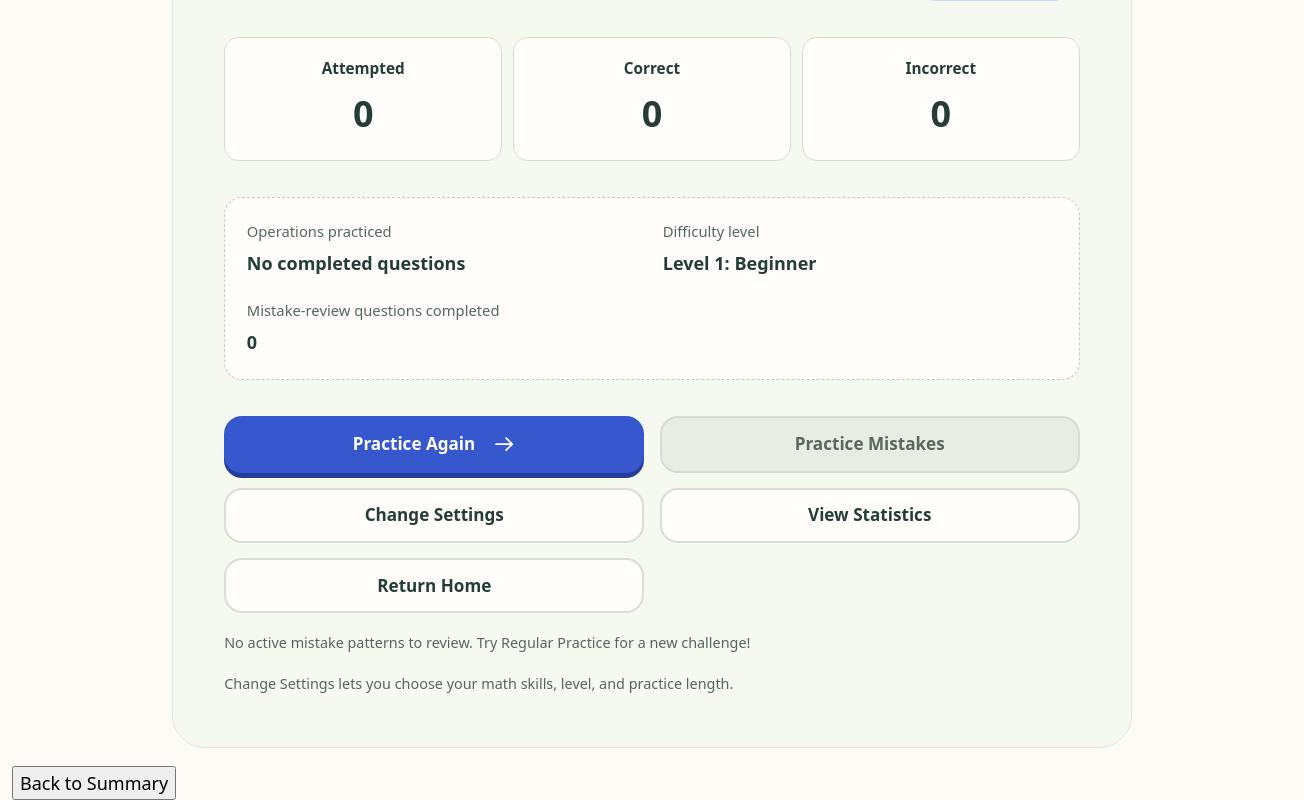
Scenario: Return Home navigates to /
(page scrolled)
Click the link "Return Home" at (434, 586), box [224,558,644,613]
(page scrolled)
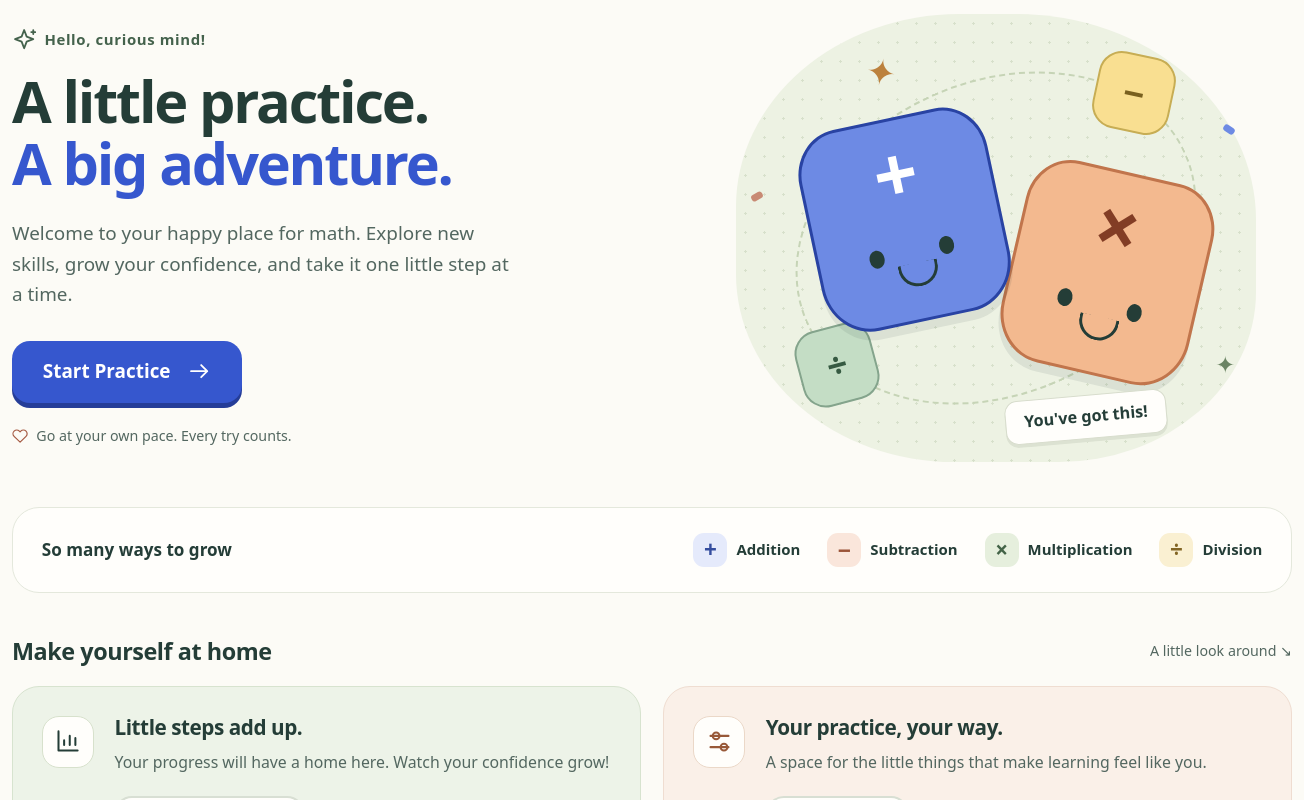
Now the heading "A little practice. A big adventure." is shown, box [12,61,452,202]
